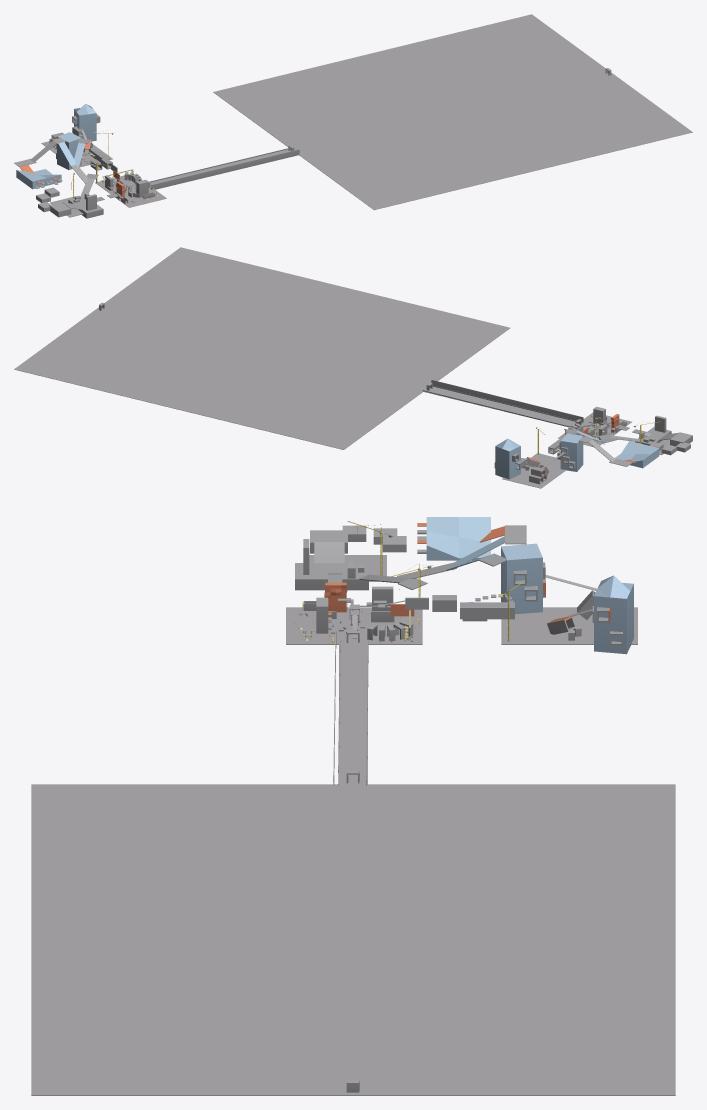
The model's file is sandbox.glb.
3 renders of one model, top to bottom at view 1: azimuth 30°, elevation 25°; view 2: azimuth 150°, elevation 25°; view 3: azimuth 270°, elevation 25°, orthographic. The views are drawn at different scales.
Parts seen in each view (by area): view 1: Cube.089, Cube.167, Cube.002, Cube.105, Cube.026, Cube.098, Cube.085; view 2: Cube.089, Cube.085, Cube.167, Cube.105, Cube.063, Cube.026, Cube.098, Cube.002; view 3: Cube.089, Cube.085, Cube.002, Cube.063, Cube.105, Cube.026, Cube.098, Cube.018.
Boxes of the visible parts, x1,y1,x2,y2 form: Cube.089: (213,14,692,210); Cube.167: (151,149,299,189); Cube.002: (95,174,166,207); Cube.105: (74,104,96,141); Cube.026: (16,169,61,189); Cube.098: (57,132,81,169); Cube.085: (150,149,303,186); Cube.089: (14,247,510,449); Cube.085: (418,384,575,426); Cube.167: (431,379,583,422); Cube.105: (495,438,520,479); Cube.063: (502,453,565,488); Cube.026: (614,441,659,468); Cube.098: (560,433,583,471); Cube.002: (558,412,631,446); Cube.089: (31,784,675,1095); Cube.085: (339,643,367,790); Cube.002: (286,607,422,644); Cube.063: (501,607,637,644); Cube.105: (594,575,633,654); Cube.026: (426,517,490,560); Cube.098: (501,543,542,614); Cube.018: (295,563,368,590).
Size of the model in its own units: 2245 by 141 by 1097.
